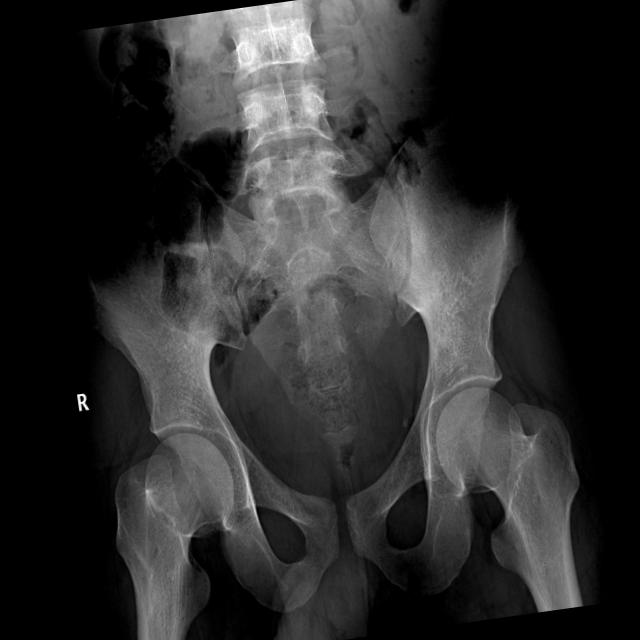normal-left: (438, 387, 583, 612)
normal-right: (115, 433, 234, 640)
